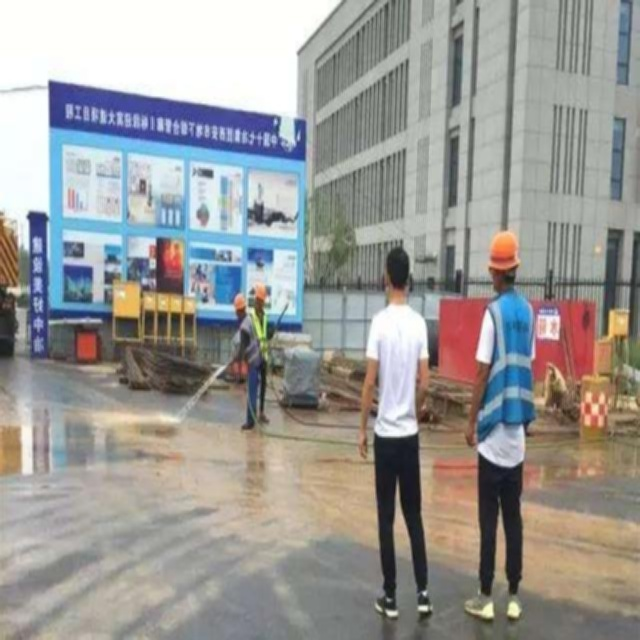Con_Casco: (487, 230, 519, 290)
Con_Chaleco: (476, 293, 536, 442)
Sin_Casco_Mascarrilla: (384, 244, 411, 301)
Sin_Chaleco: (367, 303, 429, 443)
